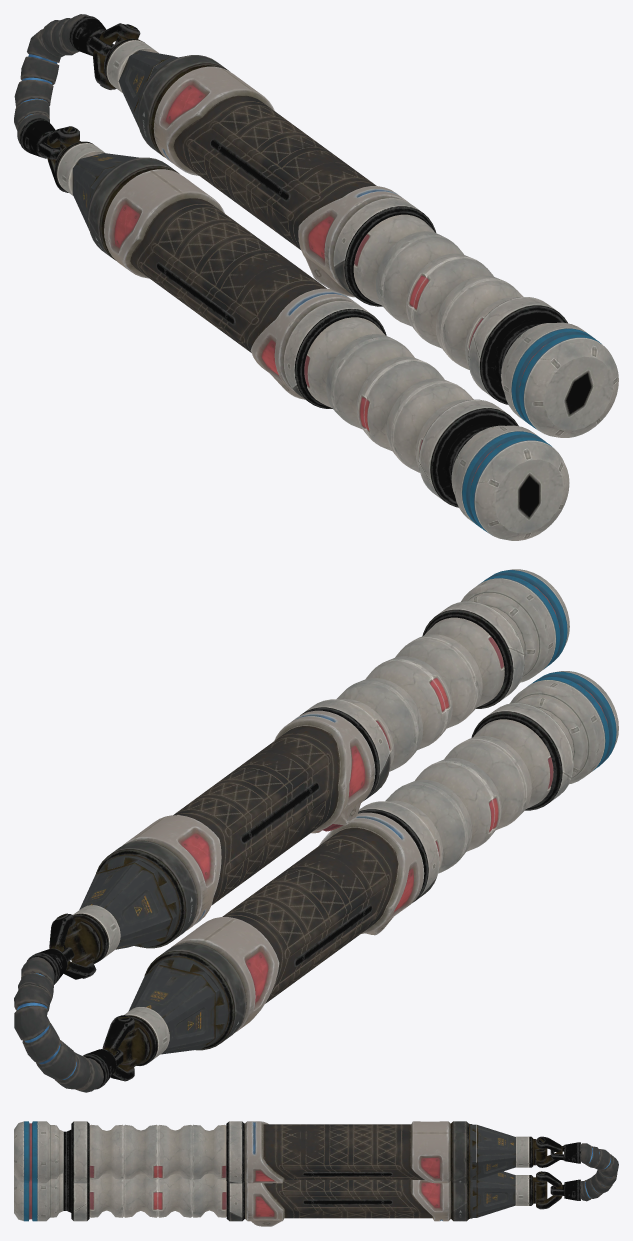
3 renders of one model, top to bottom at view 1: azimuth 30°, elevation 25°; view 2: azimuth 150°, elevation 25°; view 3: azimuth 270°, elevation 25°, orthographic. The views are drawn at different scales.
Parts seen in each view (by area): view 1: body_0_ash_heirloom.001_ash_heirloom_0; view 2: body_0_ash_heirloom.001_ash_heirloom_0; view 3: body_0_ash_heirloom.001_ash_heirloom_0.
Boxes of the visible parts, x1,y1,x2,y2 form: body_0_ash_heirloom.001_ash_heirloom_0: (14,14,618,540); body_0_ash_heirloom.001_ash_heirloom_0: (14,569,618,1092); body_0_ash_heirloom.001_ash_heirloom_0: (14,1121,618,1226).
Size of the model in its own units: 2.29 by 2.97 by 14.57.
1 material, 1 textured.
